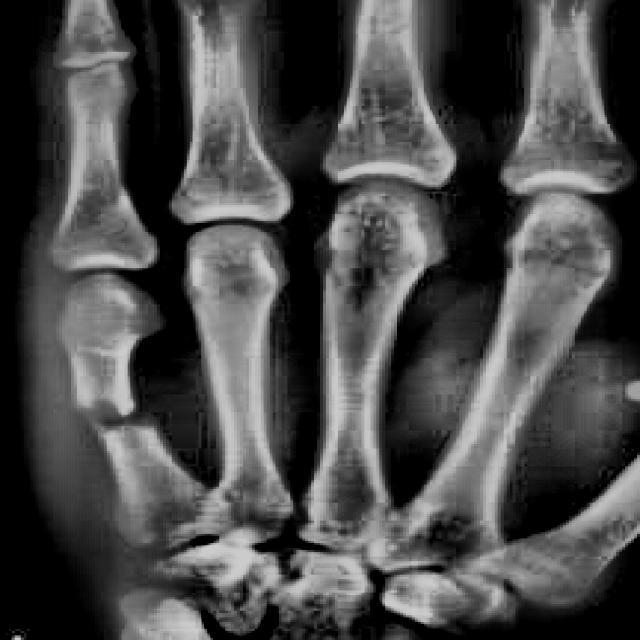fracture: (68, 396, 157, 439)
